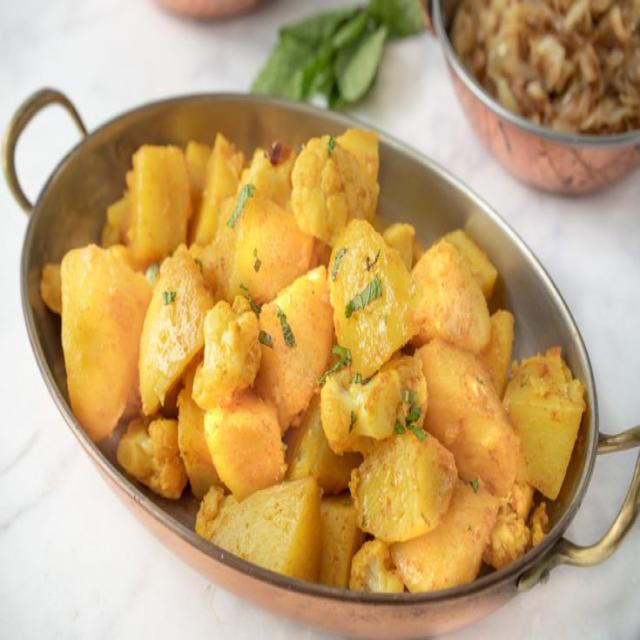aloo_gobi: (49, 102, 569, 604)
